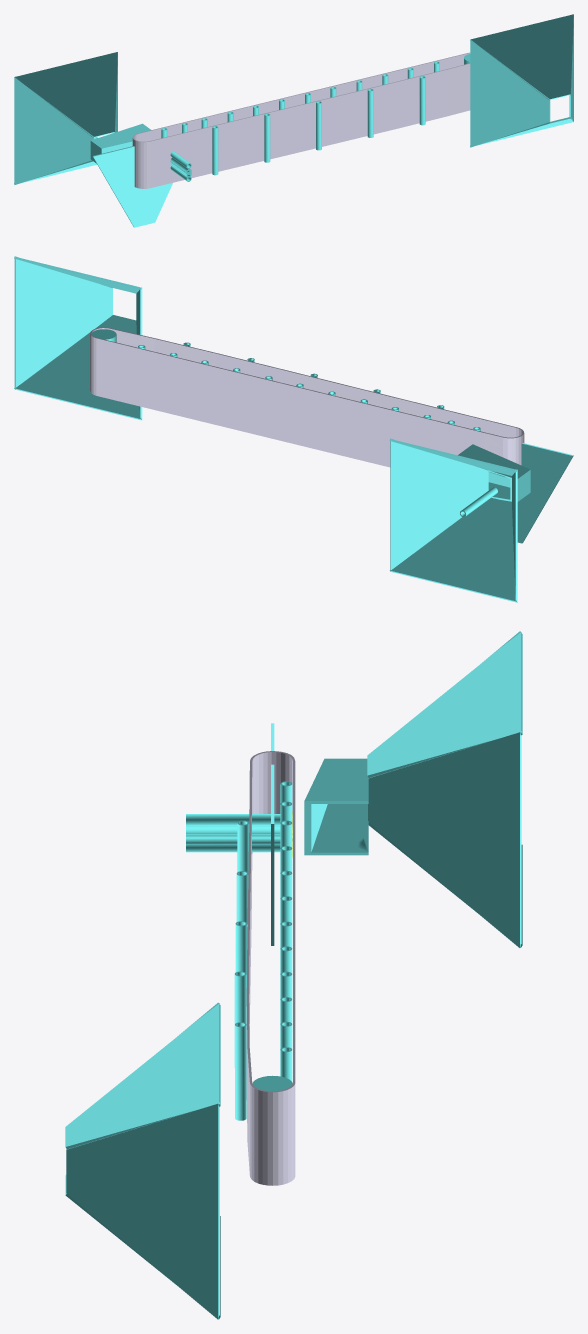
File: conveyor_belt.fbx
3 views of the same model, one above another, from view 1: azimuth 30°, elevation 25°; view 2: azimuth 150°, elevation 25°; view 3: azimuth 270°, elevation 25° (orthographic). The views are drawn at different scales.
Visible parts, largest first — view 1: imagetostl_mesh90, imagetostl_mesh2, imagetostl_mesh94, imagetostl_mesh0, imagetostl_mesh96, imagetostl_mesh91, imagetostl_mesh92, imagetostl_mesh3, imagetostl_mesh74, imagetostl_mesh72, imagetostl_mesh73, imagetostl_mesh76 (+2 smaller); view 2: imagetostl_mesh90, imagetostl_mesh1, imagetostl_mesh93, imagetostl_mesh95, imagetostl_mesh3, imagetostl_mesh91, imagetostl_mesh92, imagetostl_mesh0, imagetostl_mesh96, imagetostl_mesh94; view 3: imagetostl_mesh93, imagetostl_mesh1, imagetostl_mesh96, imagetostl_mesh0, imagetostl_mesh90, imagetostl_mesh92, imagetostl_mesh72, imagetostl_mesh56.
Boxes of the visible parts, box(x1,y1,x2,y2) form: imagetostl_mesh90: box(132, 52, 470, 188); imagetostl_mesh2: box(470, 39, 550, 147); imagetostl_mesh94: box(14, 77, 94, 184); imagetostl_mesh0: box(470, 14, 573, 99); imagetostl_mesh96: box(15, 52, 117, 137); imagetostl_mesh91: box(92, 146, 172, 227); imagetostl_mesh92: box(90, 123, 151, 163); imagetostl_mesh3: box(470, 117, 572, 146); imagetostl_mesh74: box(264, 113, 270, 162); imagetostl_mesh72: box(419, 76, 425, 125); imagetostl_mesh73: box(212, 126, 218, 175); imagetostl_mesh76: box(367, 88, 373, 137); imagetostl_mesh90: box(90, 327, 524, 467); imagetostl_mesh1: box(14, 256, 112, 389); imagetostl_mesh93: box(390, 438, 488, 571); imagetostl_mesh95: box(389, 498, 517, 602); imagetostl_mesh3: box(14, 315, 141, 420); imagetostl_mesh91: box(501, 443, 573, 543); imagetostl_mesh92: box(458, 444, 530, 501); imagetostl_mesh0: box(14, 256, 141, 293); imagetostl_mesh96: box(389, 439, 516, 475); imagetostl_mesh94: box(512, 469, 517, 602); imagetostl_mesh93: box(368, 731, 521, 947); imagetostl_mesh1: box(66, 1102, 219, 1319); imagetostl_mesh96: box(367, 632, 522, 777); imagetostl_mesh0: box(65, 1004, 220, 1149); imagetostl_mesh90: box(246, 751, 295, 1185); imagetostl_mesh92: box(304, 758, 368, 855); imagetostl_mesh72: box(235, 1022, 246, 1120); imagetostl_mesh56: box(186, 814, 280, 825).
Bounding box in the file's own units: 93708 × 22044 × 38306.
